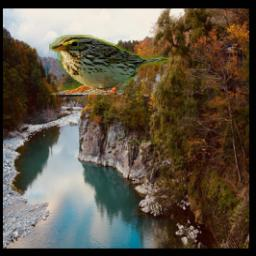Sparrow: (50, 35, 172, 95)
